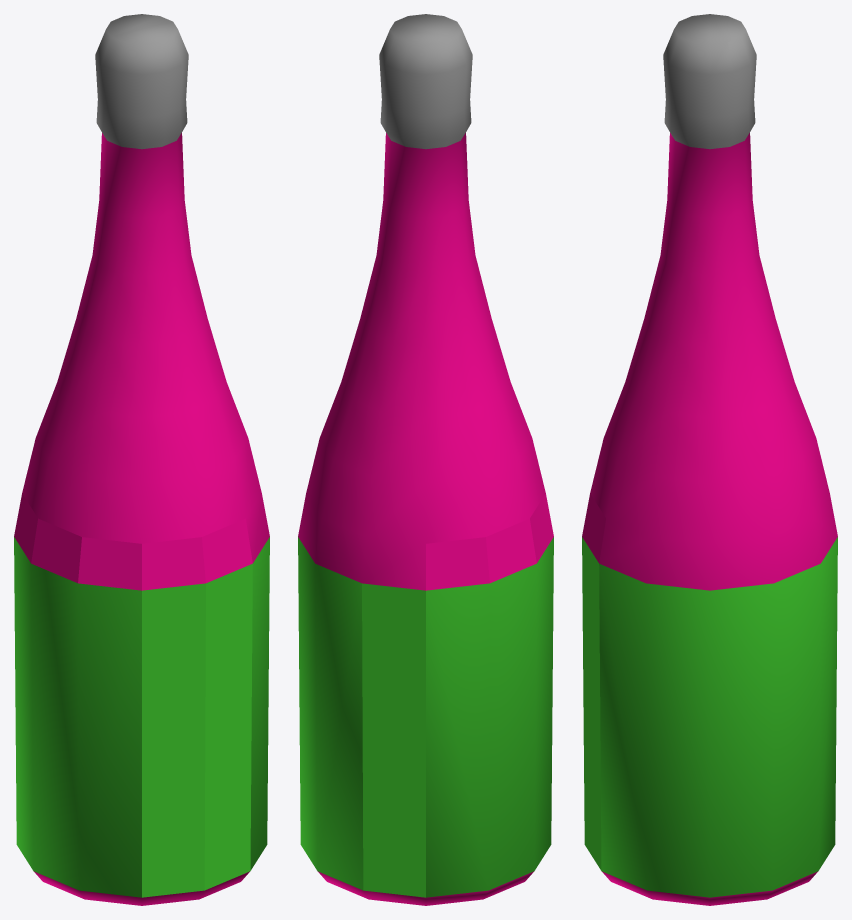
Rendered from SM_Champagne.fbx.
3 views of the same model, side by side, from view 1: azimuth 30°, elevation 25°; view 2: azimuth 150°, elevation 25°; view 3: azimuth 270°, elevation 25° (orthographic).
Parts seen in each view (by area): view 1: SM_Champagne; view 2: SM_Champagne; view 3: SM_Champagne.
Part boxes in pixels (left/top/right/bottom): SM_Champagne: left=14, top=14, right=269, bottom=905; SM_Champagne: left=298, top=14, right=553, bottom=905; SM_Champagne: left=582, top=14, right=837, bottom=905.
Bounding box in the file's own units: 7.45 × 26.65 × 7.45.
